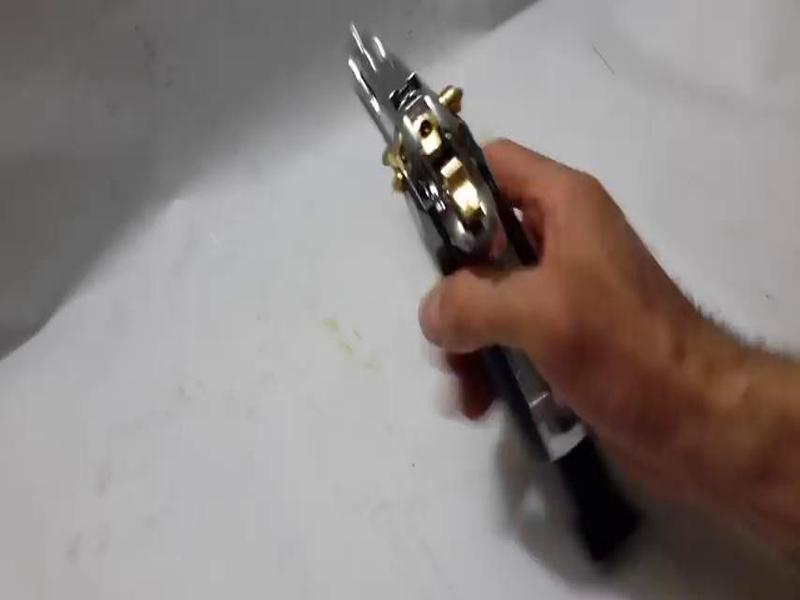Pistola: (316, 32, 637, 547)
